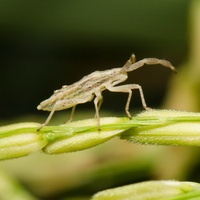insect: (37, 54, 175, 130)
